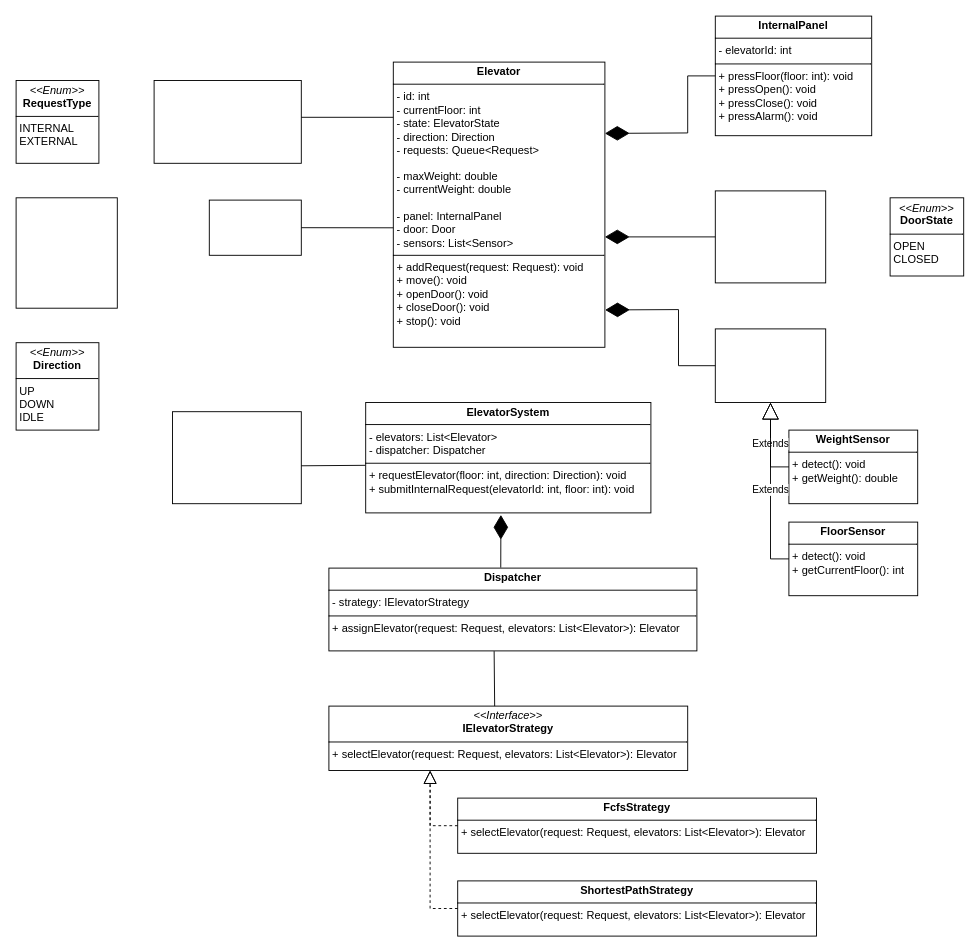
This 980x952 diagram has some shape labels left out. The shapes that lost their labels are listed below. From the top down, each one's box as (x1, y1, x2, y2) in pixels, then its label:
(153, 80, 301, 163): Request - floor: int - direction: Direction - type: RequestType
(208, 199, 301, 255): Alarm + trigger(): void
(714, 190, 826, 283): Door - state: DoorState + open(): void + close(): void
(15, 197, 117, 308): <<Enum>> ElevatorState MOVING IDLE STOPPED MAINTENANCE
(714, 328, 826, 402): <<Abstract>> Sensor + detect(): void
(172, 411, 301, 504): ExternalPanel - floor: int + pressUp(): void + pressDown(): void
